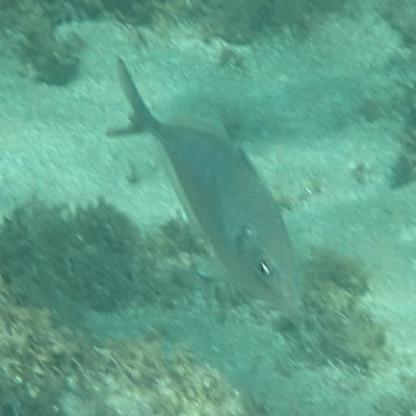jack: (101, 47, 317, 327)
